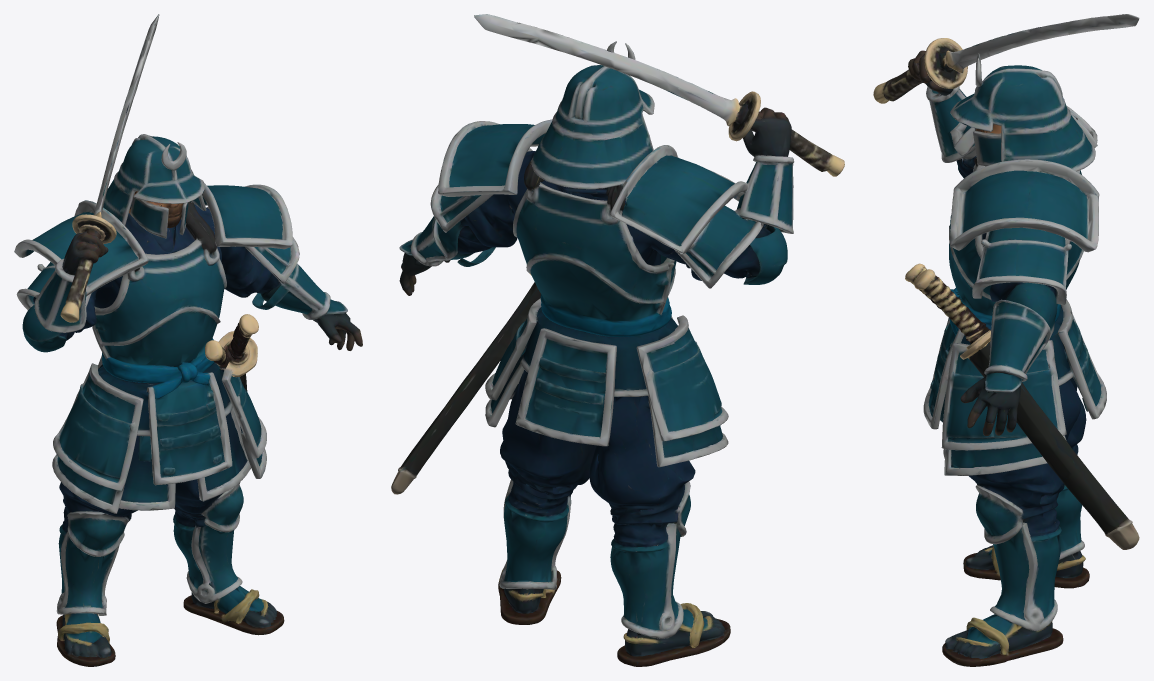
The model's file is detail_4.glb.
The picture shows the model from 3 angles, left to right: view 1: azimuth 30°, elevation 25°; view 2: azimuth 150°, elevation 25°; view 3: azimuth 270°, elevation 25°; orthographic projection. The views are drawn at different scales.
Size of the model in its own units: 0.6361 by 0.9966 by 0.3848.
1 material, 1 textured.
